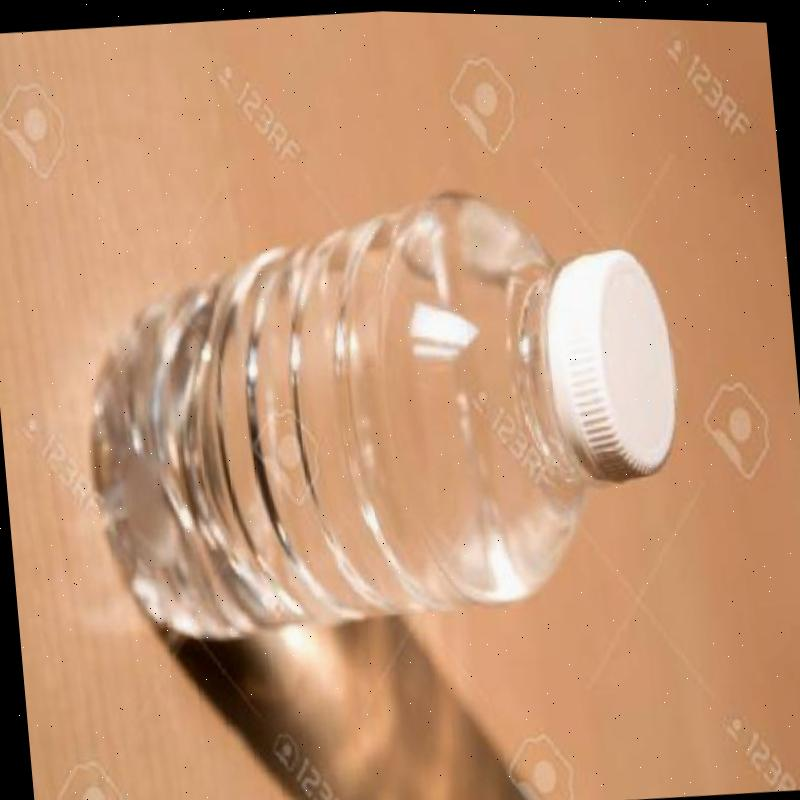botella: (72, 157, 696, 653)
